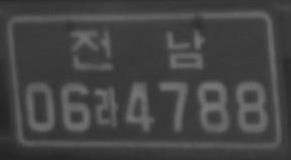0: (24, 80, 56, 134)
4: (124, 81, 156, 133)
6: (59, 80, 92, 134)
7: (157, 79, 190, 135)
8: (196, 79, 232, 135), (234, 79, 270, 135)
라: (93, 85, 120, 129)
전남_D: (68, 26, 205, 72)
